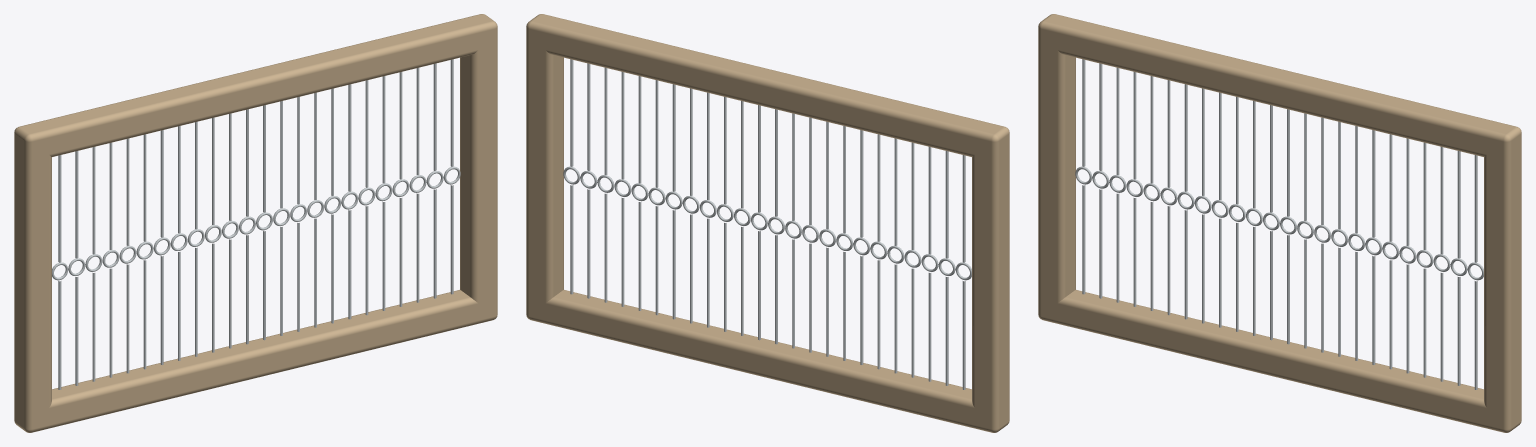
Rendered from textile-weaving-and-dye-workshop-heddle-frame-a98d7283__29538.glb.
3 renders of one model, left to right at view 1: azimuth 30°, elevation 25°; view 2: azimuth 150°, elevation 25°; view 3: azimuth 330°, elevation 25°, orthographic.
Visible parts, largest first — view 1: heddle-frame; view 2: heddle-frame; view 3: heddle-frame.
Part boxes in pixels (left/top/right/bottom): heddle-frame: left=14, top=14, right=497, bottom=432; heddle-frame: left=526, top=14, right=1009, bottom=432; heddle-frame: left=1038, top=14, right=1521, bottom=432.
Bounding box in the file's own units: 0.795 × 0.4801 × 0.045.
